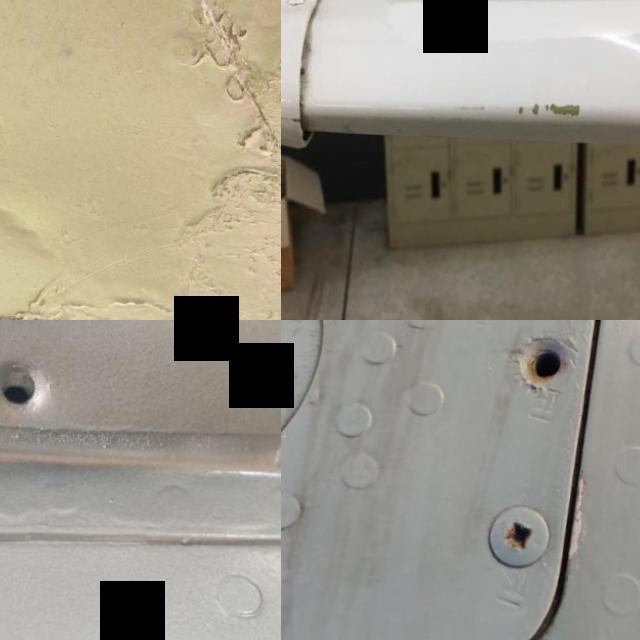Crack: (454, 73, 598, 141)
Dent: (0, 104, 80, 282)
Missing_Fastener: (0, 323, 83, 468), (489, 320, 595, 420)
